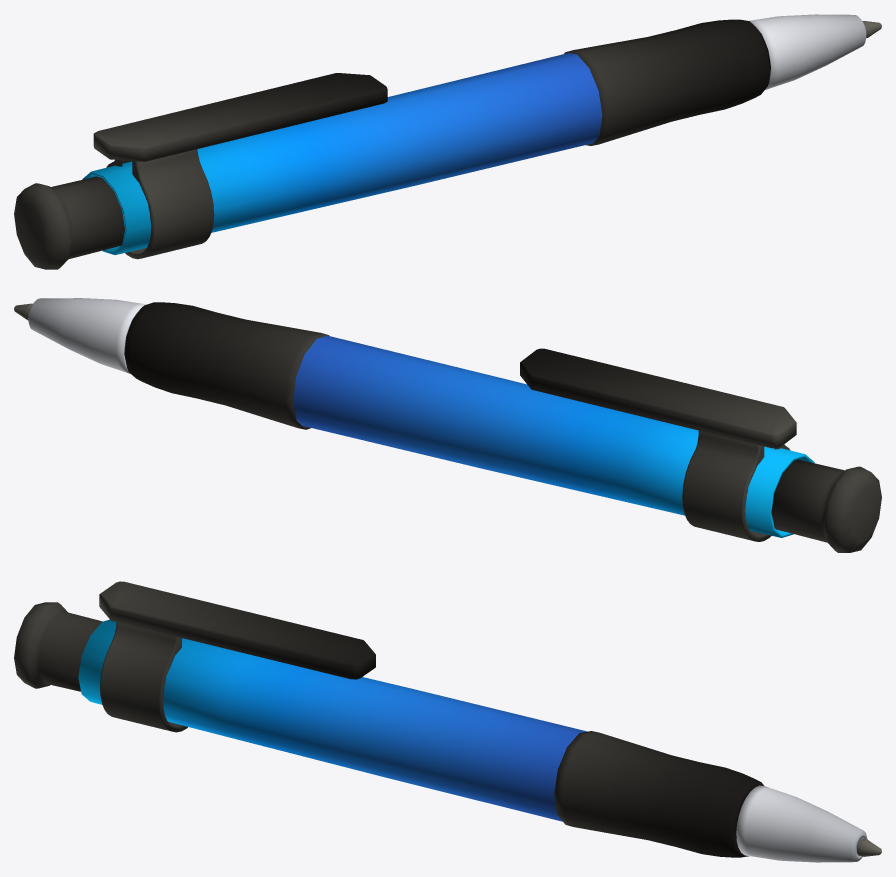
The model's file is Pen01.fbx.
The picture shows the model from 3 angles, top to bottom: view 1: azimuth 30°, elevation 25°; view 2: azimuth 150°, elevation 25°; view 3: azimuth 330°, elevation 25°; orthographic projection.
Parts seen in each view (by area): view 1: FF209.obj, FF209.obj.002, FF209.obj.001, FF209.obj.005, FF209.obj.003; view 2: FF209.obj, FF209.obj.002, FF209.obj.001, FF209.obj.005, FF209.obj.003; view 3: FF209.obj, FF209.obj.002, FF209.obj.001, FF209.obj.003, FF209.obj.005.
Boxes of the visible parts, left/top/right/bottom form: FF209.obj: left=82, top=53, right=602, bottom=254; FF209.obj.002: left=93, top=73, right=387, bottom=259; FF209.obj.001: left=564, top=19, right=770, bottom=145; FF209.obj.005: left=14, top=176, right=124, bottom=269; FF209.obj.003: left=749, top=14, right=866, bottom=90; FF209.obj: left=293, top=335, right=814, bottom=537; FF209.obj.002: left=520, top=348, right=796, bottom=541; FF209.obj.001: left=124, top=302, right=329, bottom=429; FF209.obj.005: left=771, top=459, right=881, bottom=552; FF209.obj.003: left=28, top=298, right=146, bottom=374; FF209.obj: left=78, top=619, right=587, bottom=821; FF209.obj.002: left=99, top=581, right=375, bottom=732; FF209.obj.001: left=554, top=731, right=763, bottom=857; FF209.obj.003: left=736, top=785, right=867, bottom=862; FF209.obj.005: left=14, top=602, right=102, bottom=691.
Bounding box in the file's own units: 295 × 39.34 × 31.91.
Materials: 1 (1 with a texture image).
